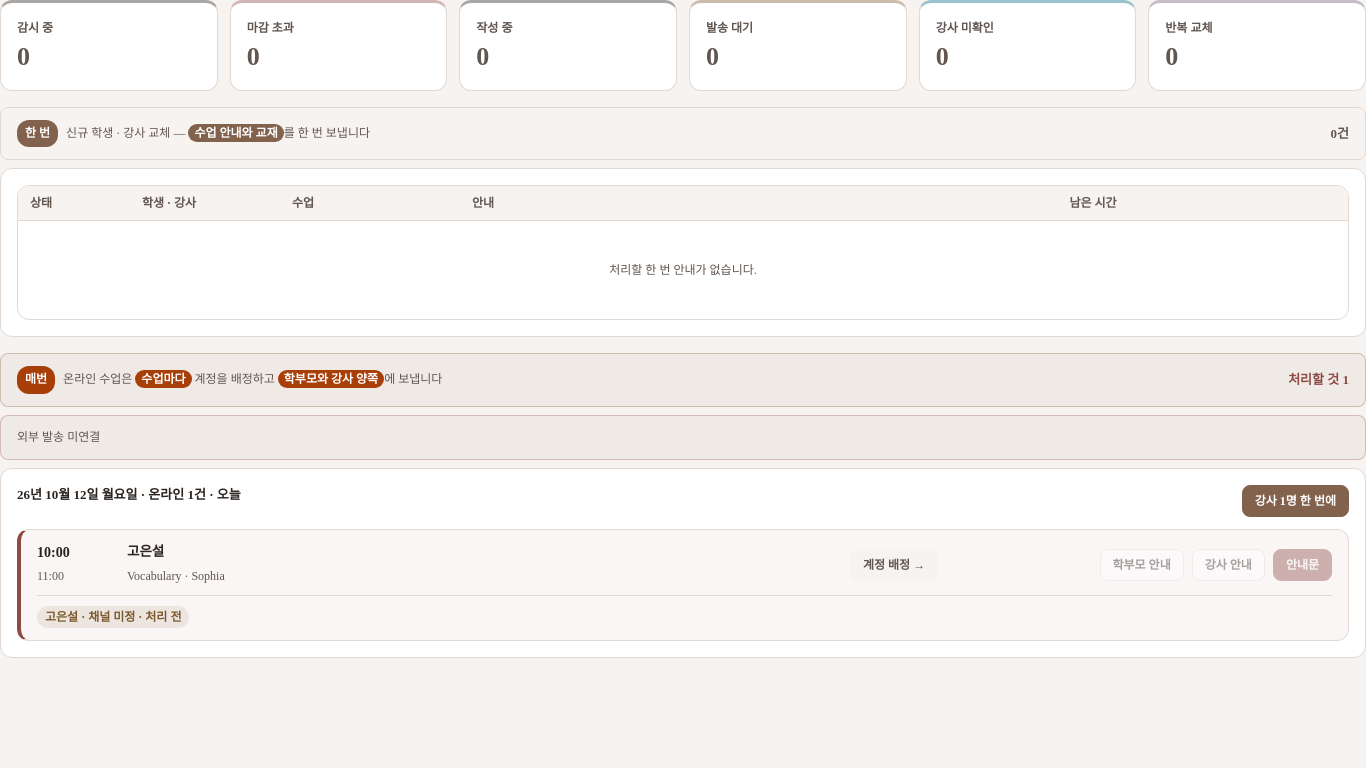
Test case: 후보 재조회 실패도 오래된 선택으로 저장하지 않고 재시도 후 선택을 보존한다
Click the button "계정 배정 →".
click(894, 564)  # box [850,548,938,580]
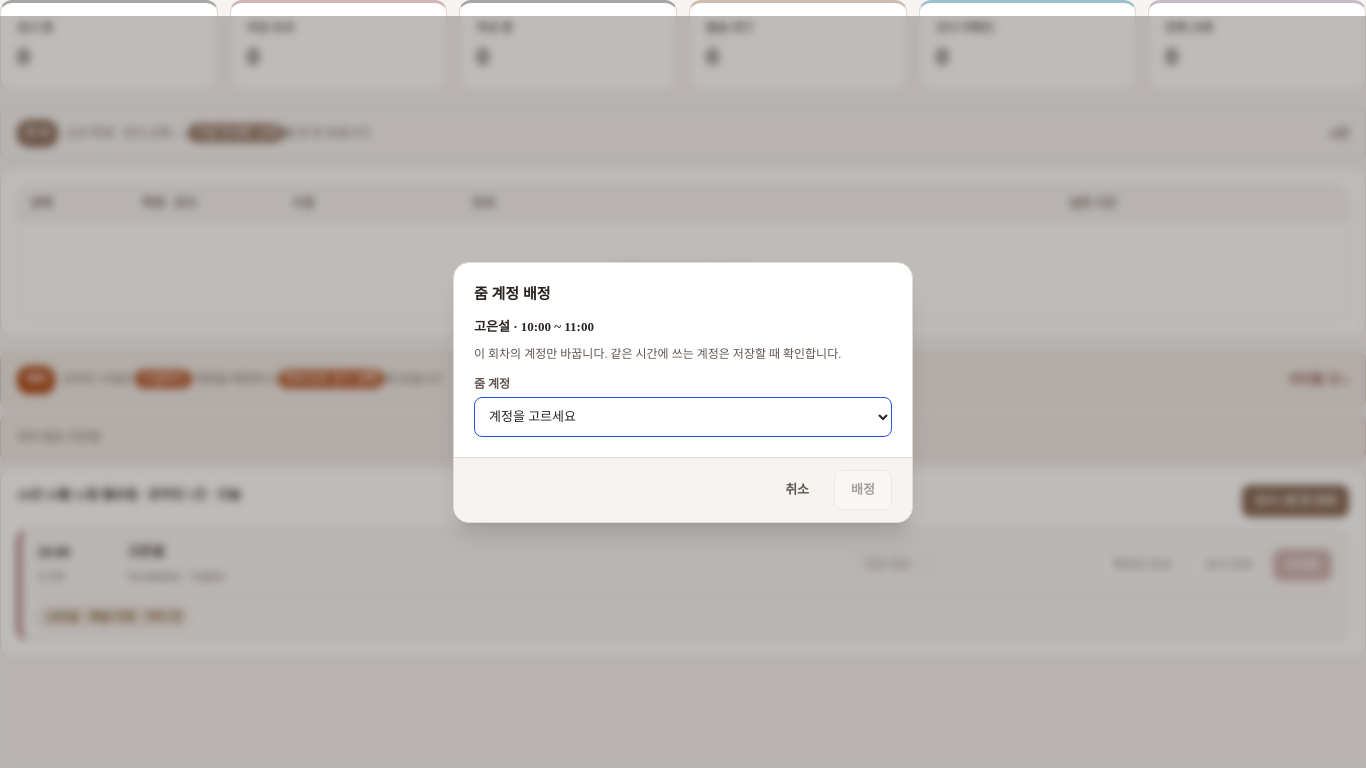
Select "Study" in the dropdown labelled "줌 계정" at (683, 416), box [474,396,892,436]
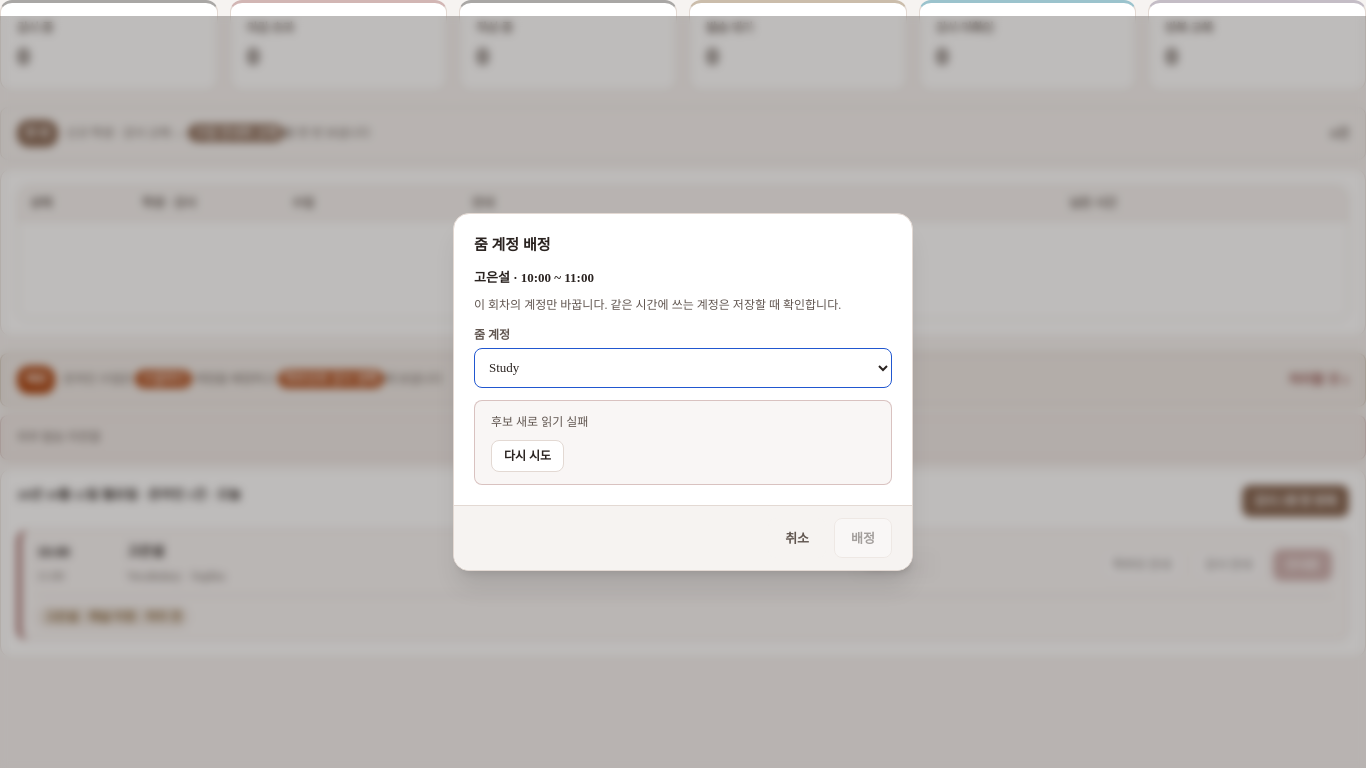
Expected: the button "배정" is disabled, [834,518,892,558]
Expected: the text "후보 새로 읽기 실패" is shown, [491,415,588,429]
Click the button "다시 시도".
click(528, 456)  # box [491,440,564,472]
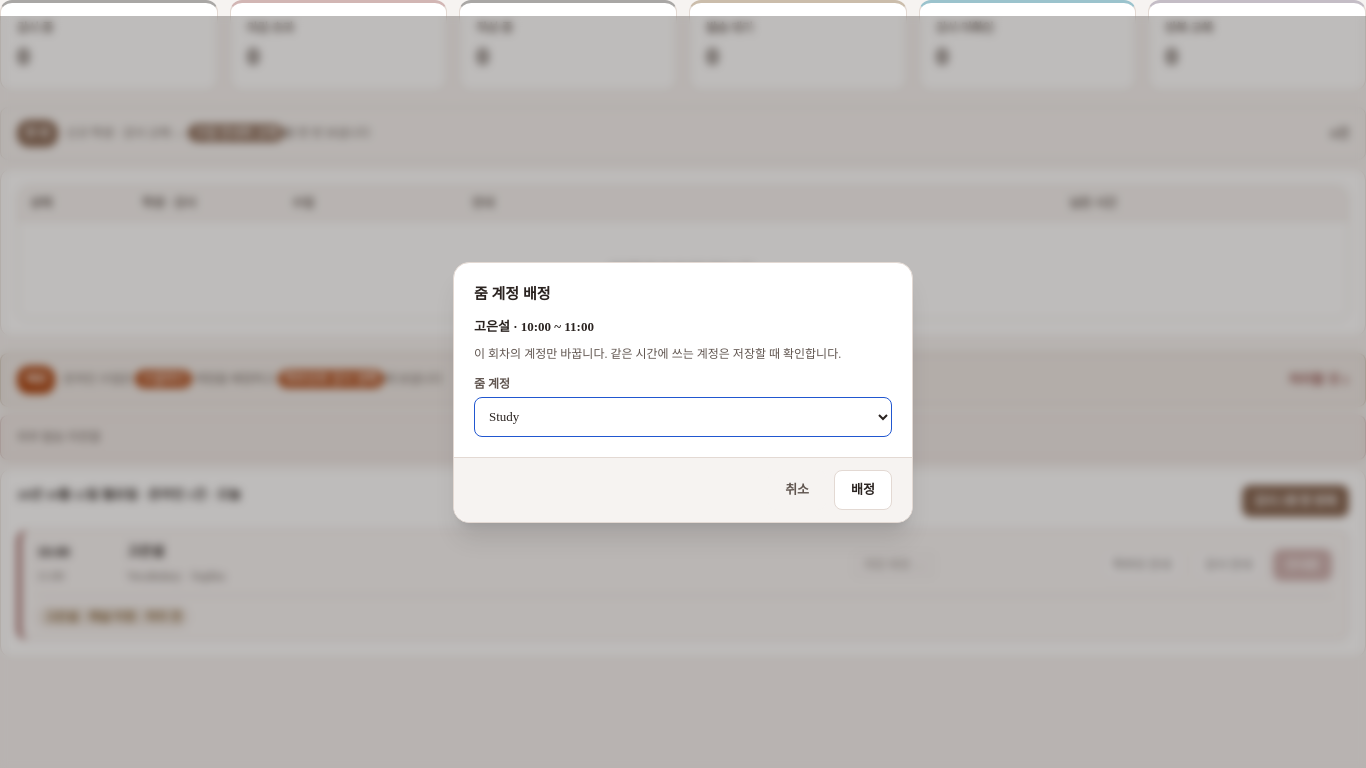
Expected: the text "후보 새로 읽기 실패" is gone
Expected: the button "배정" is enabled, [834,470,892,510]
